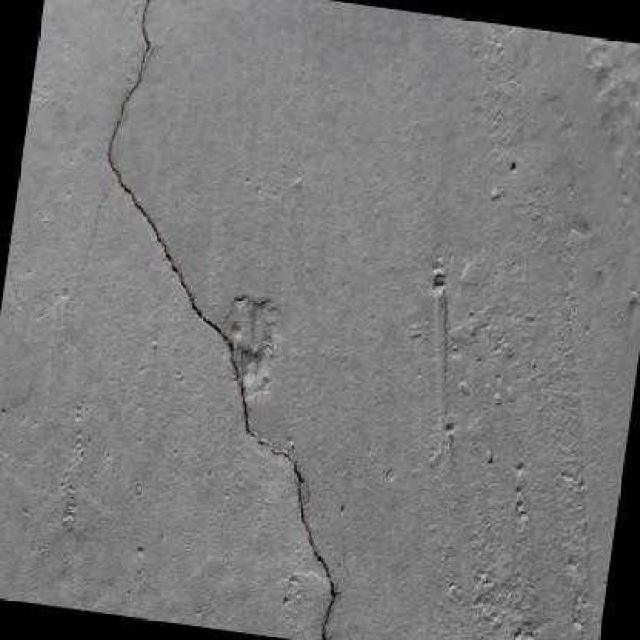D00: (77, 0, 338, 640), (218, 294, 272, 325)
